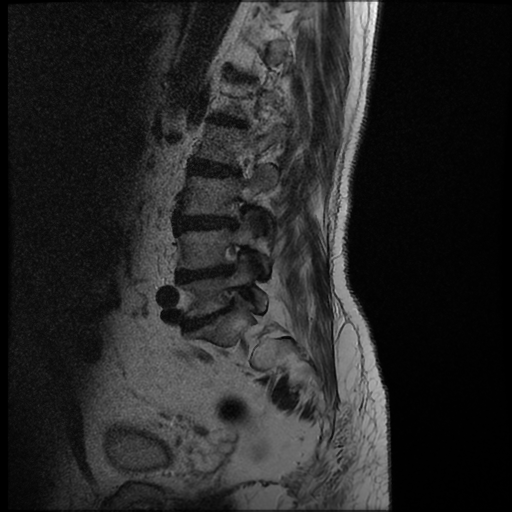LFS1: (213, 236, 254, 284)
